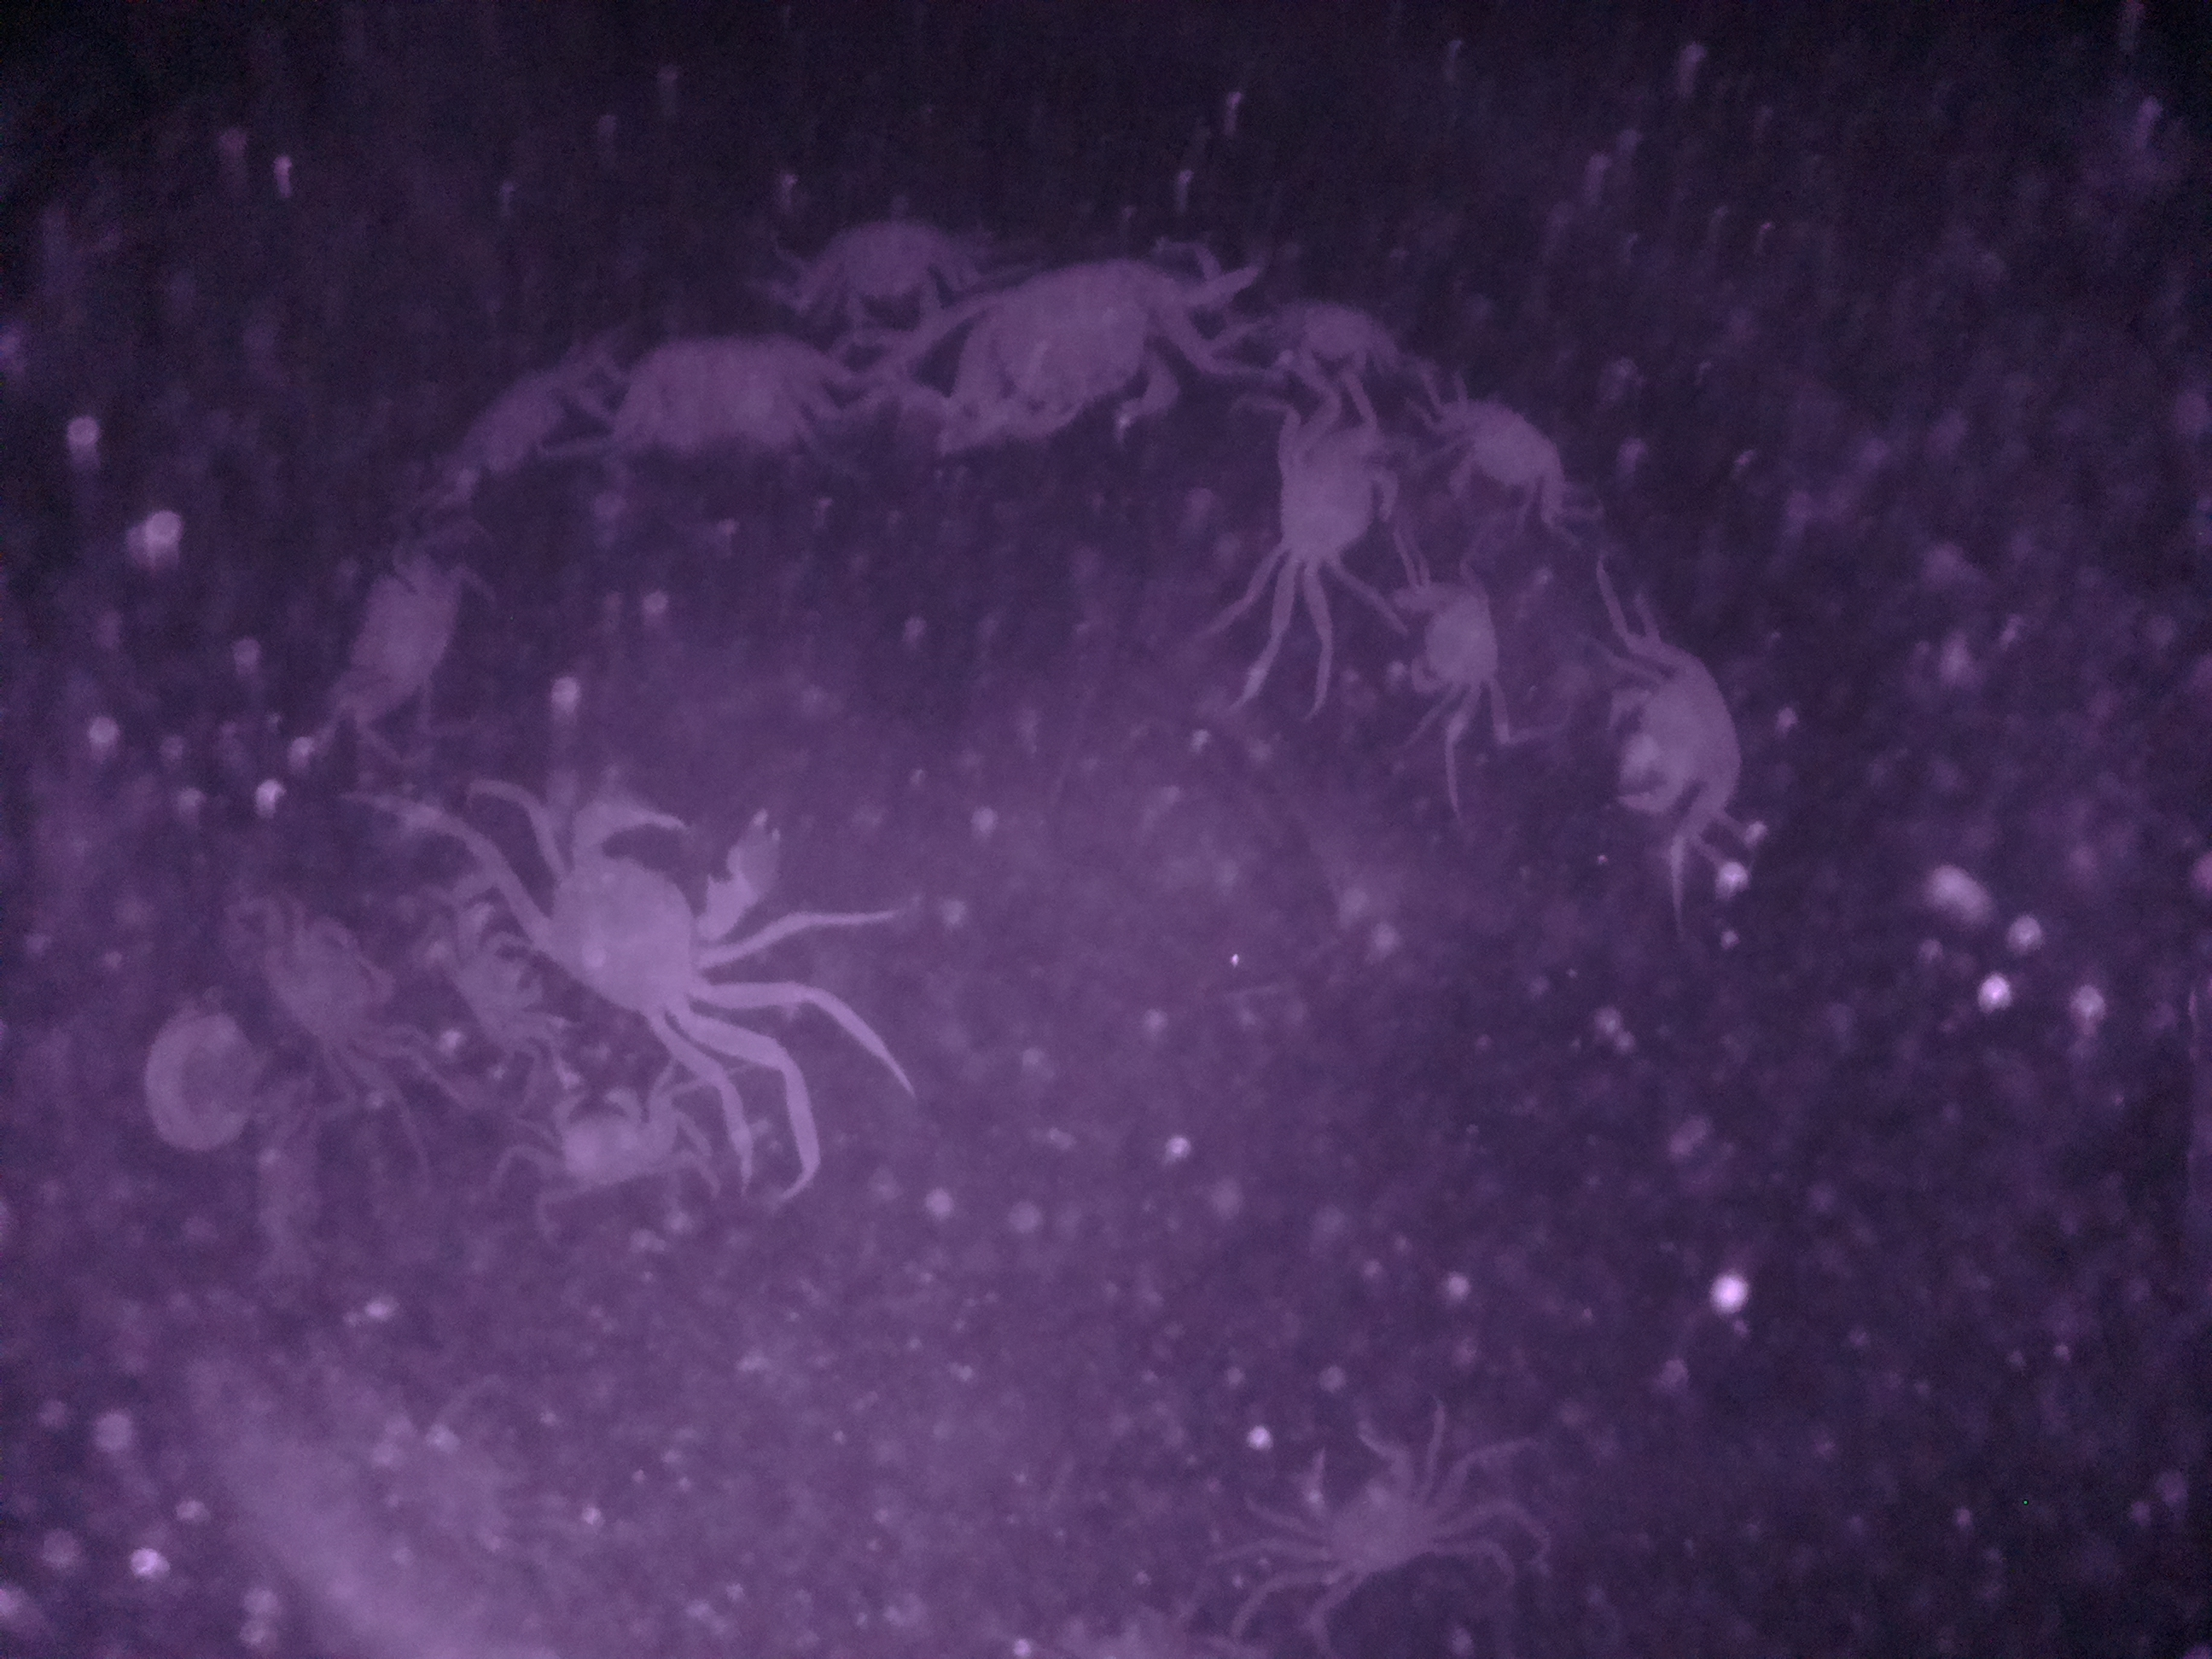Crab: (538, 753, 805, 1042), (1595, 641, 1771, 849), (246, 873, 404, 1094), (1280, 1420, 1475, 1600), (1238, 392, 1411, 586), (503, 1065, 685, 1220), (1428, 373, 1588, 525), (1371, 563, 1529, 708)
